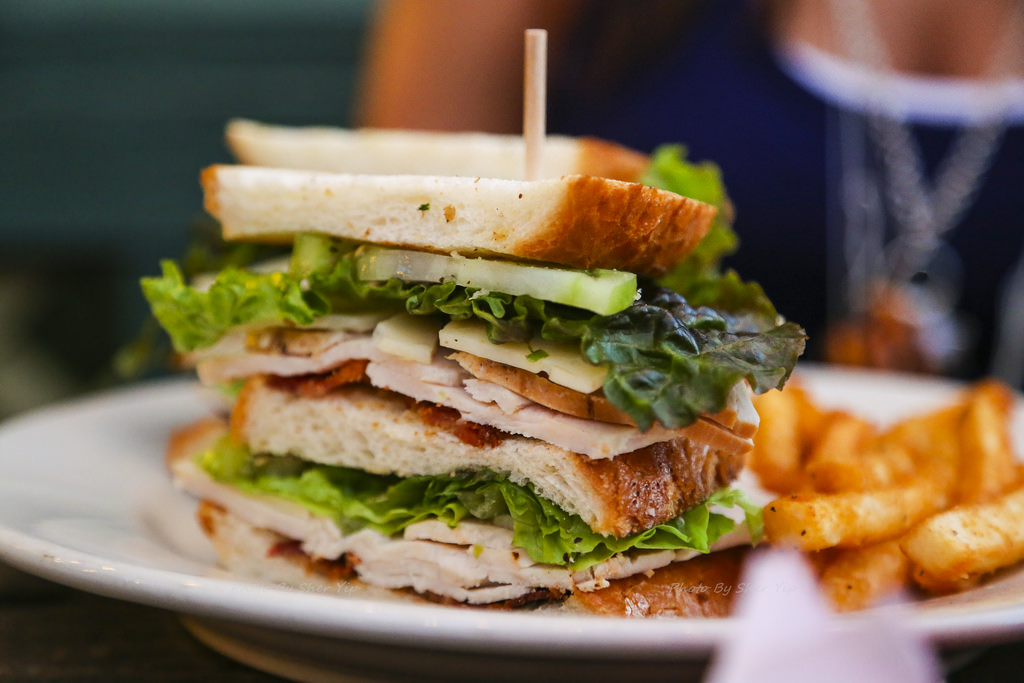slice of bread: (194, 110, 727, 259), (228, 372, 702, 526)
